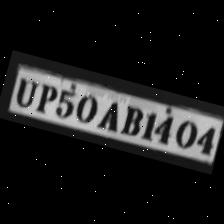0: (71, 87, 102, 125), (170, 113, 201, 150)
1: (138, 104, 167, 142)
4: (192, 119, 220, 156), (151, 106, 178, 144)
5: (50, 81, 79, 120)
A: (94, 93, 125, 132)
B: (117, 99, 147, 138)
P: (32, 78, 60, 114)
U: (10, 72, 42, 108)
